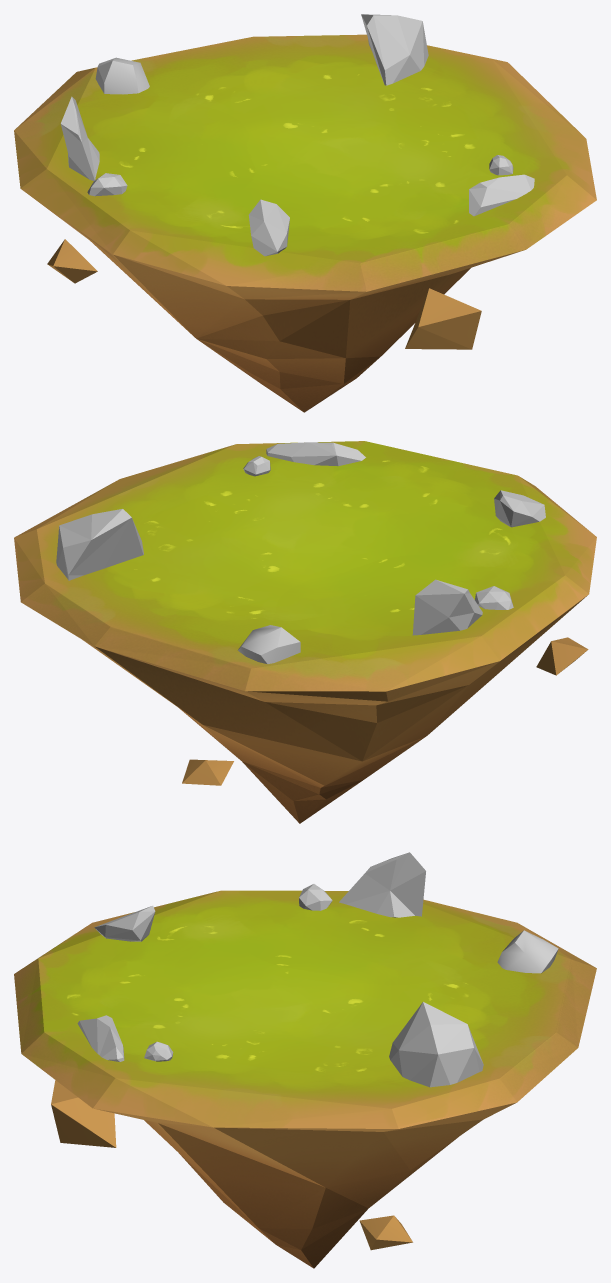
Rendered from batorusinn.fbx.
The picture shows the model from 3 angles, top to bottom: view 1: azimuth 30°, elevation 25°; view 2: azimuth 150°, elevation 25°; view 3: azimuth 270°, elevation 25°; orthographic projection.
Parts seen in each view (by area): view 1: tikei4, isi4; view 2: tikei4, isi4; view 3: tikei4, isi4.
Part boxes in pixels (x1,y1,x2,y2): tikei4: [14, 34, 596, 412]; isi4: [60, 14, 534, 256]; tikei4: [14, 441, 596, 823]; isi4: [56, 442, 545, 664]; tikei4: [14, 890, 596, 1268]; isi4: [77, 852, 558, 1087].
Bounding box in the file's own units: 370 × 224 × 361.
